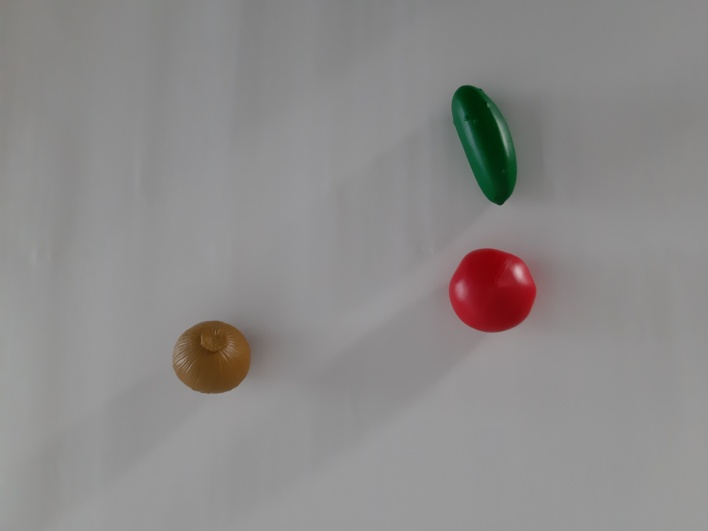cucumber: (431, 70, 546, 224)
onion: (154, 305, 270, 409)
tomato: (424, 239, 559, 343)
